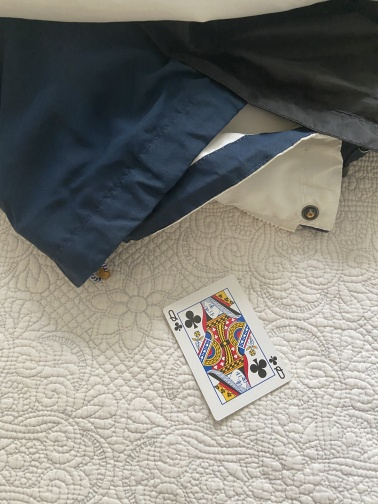queen: (162, 274, 290, 423)
